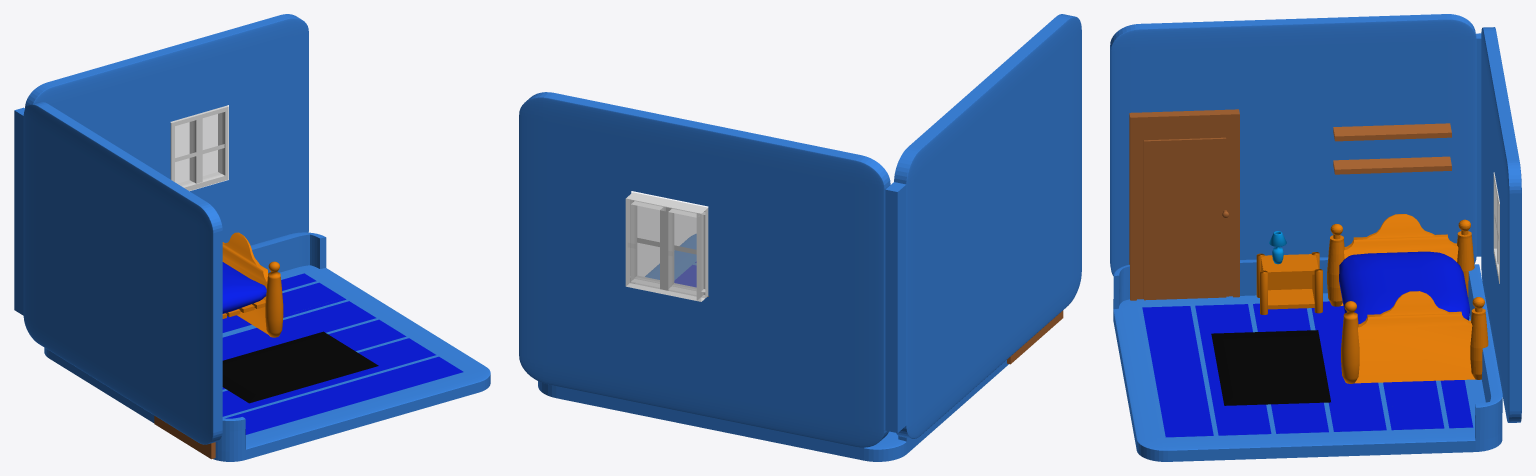
Rendered from newdiorama2.fbx.
The picture shows the model from 3 angles, left to right: view 1: azimuth 30°, elevation 25°; view 2: azimuth 150°, elevation 25°; view 3: azimuth 270°, elevation 25°; orthographic projection. The views are drawn at different scales.
Parts seen in each view (by area): view 1: Cube, Plane, Cylinder.002; view 2: Cube; view 3: Cube, Cylinder.002, Plane, Cylinder.007.
Part boxes in pixels (x1,y1,x2,y2): Cube: (14, 14, 490, 461); Plane: (222, 331, 378, 403); Cylinder.002: (222, 232, 283, 337); Cube: (519, 14, 1081, 461); Cube: (1110, 14, 1521, 461); Cylinder.002: (1327, 214, 1488, 383); Plane: (1211, 330, 1330, 405); Cylinder.007: (1256, 252, 1322, 314).
Size of the model in its own units: 11866 by 8998 by 12036.
